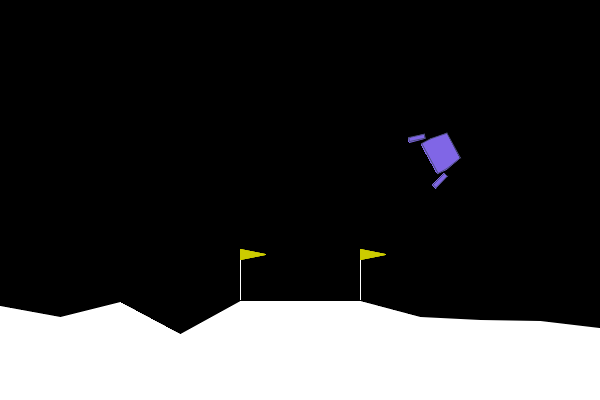lander: (406, 119, 469, 190)
